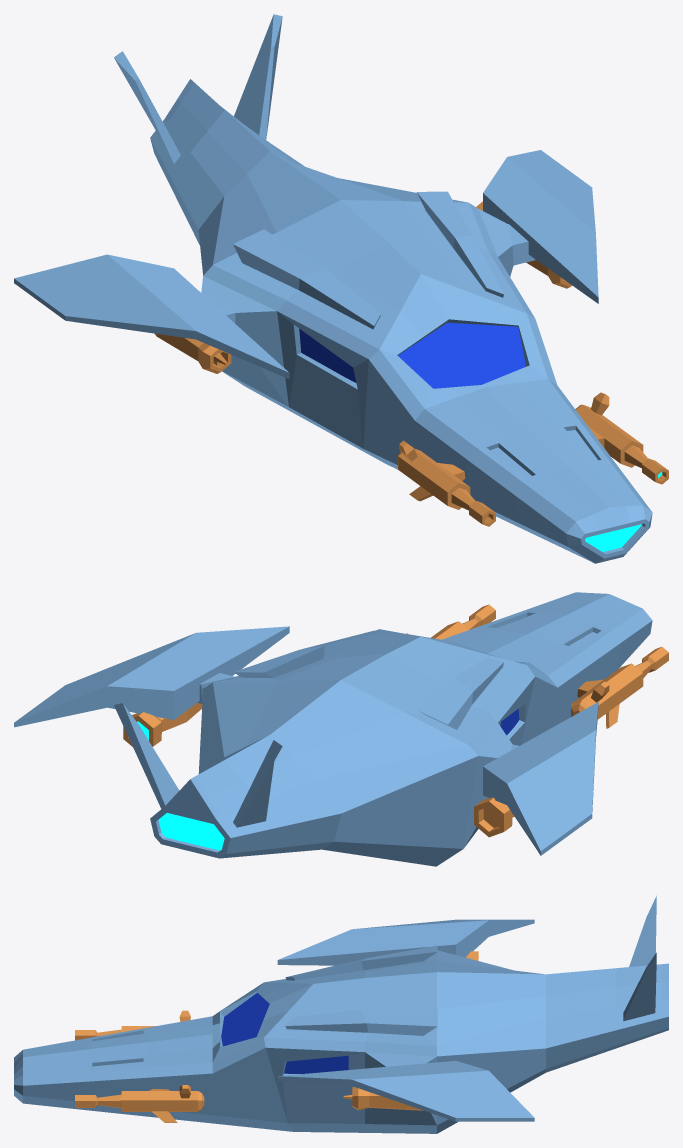
Rendered from SHIP.fbx.
3 views of the same model, one above another, from view 1: azimuth 30°, elevation 25°; view 2: azimuth 150°, elevation 25°; view 3: azimuth 270°, elevation 25° (orthographic). The views are drawn at different scales.
Parts seen in each view (by area): view 1: Cube, Plane, Cube.002, Plane.001; view 2: Cube; view 3: Cube, Plane, Cube.002.
Boxes of the visible parts, box(x1,y1,x2,y2) form: Cube: box(14, 14, 668, 563); Plane: box(398, 322, 525, 388); Cube.002: box(299, 329, 356, 382); Plane.001: box(585, 471, 662, 551); Cube: box(14, 592, 668, 866); Cube: box(14, 896, 668, 1133); Plane: box(221, 992, 269, 1046); Cube.002: box(284, 1055, 348, 1073).
Bounding box in the file's own units: 731 × 327 × 1021.
